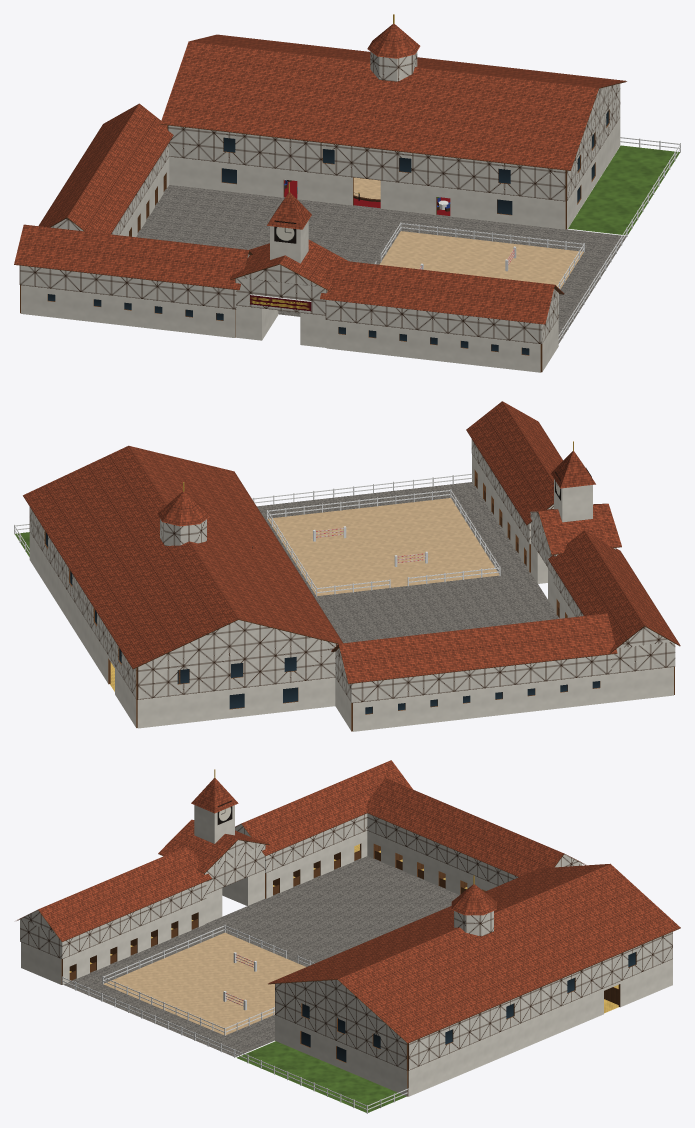
The model's file is QL_Auction.fbx.
The picture shows the model from 3 angles, top to bottom: view 1: azimuth 30°, elevation 25°; view 2: azimuth 150°, elevation 25°; view 3: azimuth 270°, elevation 25°; orthographic projection. The views are drawn at different scales.
Parts seen in each view (by area): view 1: Auction_SaleHall_Roof, Auction_SaleHall, Auction_Wing_East, Auction_Wing_West, Auction_Court, Auction_Wing_Left, Auction_Gatehouse, Auction_Arena, Auction_Garden, Auction_ClockTower, Auction_SaleHall_Cupola, Auction_Lot_Fence (+3 smaller); view 2: Auction_SaleHall_Roof, Auction_Wing_Left, Auction_SaleHall, Auction_Court, Auction_Arena, Auction_Wing_West, Auction_Wing_East, Auction_Gatehouse, Auction_ClockTower, Auction_Arena_Fence, Auction_SaleHall_Cupola, Auction_Lot_Fence; view 3: Auction_SaleHall_Roof, Auction_SaleHall, Auction_Court, Auction_Wing_East, Auction_Wing_Left, Auction_Arena, Auction_Wing_West, Auction_Gatehouse, Auction_Garden, Auction_ClockTower, Auction_SaleHall_Cupola, Auction_Arena_Fence (+2 smaller).
Part boxes in pixels (left/top/right/bottom): Auction_SaleHall_Roof: left=160, top=34, right=626, bottom=170; Auction_SaleHall: left=167, top=83, right=620, bottom=229; Auction_Wing_East: left=320, top=259, right=564, bottom=372; Auction_Wing_West: left=14, top=224, right=253, bottom=337; Auction_Court: left=136, top=185, right=626, bottom=343; Auction_Wing_Left: left=20, top=103, right=173, bottom=313; Auction_Gatehouse: left=230, top=239, right=348, bottom=347; Auction_Arena: left=379, top=231, right=583, bottom=288; Auction_Garden: left=568, top=145, right=679, bottom=235; Auction_ClockTower: left=267, top=182, right=311, bottom=263; Auction_SaleHall_Cupola: left=367, top=14, right=420, bottom=81; Auction_Lot_Fence: left=558, top=137, right=680, bottom=340; Auction_SaleHall_Roof: left=23, top=445, right=342, bottom=669; Auction_Wing_Left: left=331, top=613, right=673, bottom=731; Auction_SaleHall: left=29, top=507, right=337, bottom=728; Auction_Court: left=257, top=482, right=559, bottom=644; Auction_Arena: left=268, top=498, right=499, bottom=596; Auction_Wing_West: left=548, top=530, right=680, bottom=694; Auction_Wing_East: left=466, top=401, right=562, bottom=572; Auction_Gatehouse: left=526, top=503, right=621, bottom=608; Auction_ClockTower: left=551, top=441, right=595, bottom=522; Auction_Arena_Fence: left=266, top=489, right=500, bottom=596; Auction_SaleHall_Cupola: left=157, top=482, right=209, bottom=545; Auction_Lot_Fence: left=14, top=473, right=472, bottom=553; Auction_SaleHall_Roof: left=268, top=863, right=680, bottom=1043; Auction_SaleHall: left=275, top=932, right=672, bottom=1096; Auction_Court: left=63, top=856, right=459, bottom=1056; Auction_Wing_East: left=16, top=846, right=211, bottom=984; Auction_Wing_Left: left=367, top=778, right=585, bottom=894; Auction_Arena: left=103, top=932, right=305, bottom=1034; Auction_Wing_West: left=235, top=760, right=412, bottom=898; Auction_Gatehouse: left=158, top=819, right=270, bottom=923; Auction_Garden: left=236, top=1041, right=406, bottom=1112; Auction_ClockTower: left=191, top=769, right=238, bottom=843; Auction_SaleHall_Cupola: left=451, top=875, right=496, bottom=936; Auction_Arena_Fence: left=102, top=924, right=314, bottom=1035.
Size of the model in its own units: 97.31 by 21 by 92.77.
